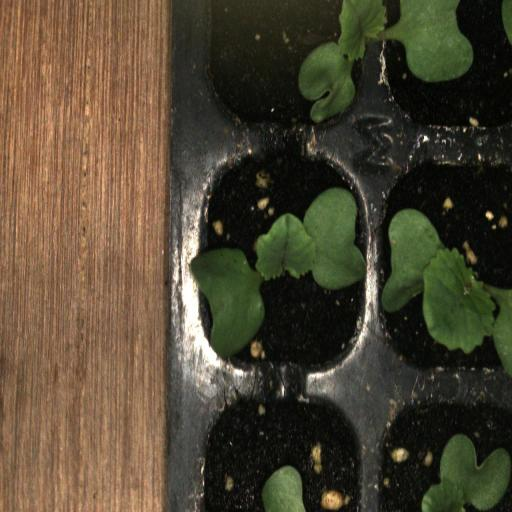askew: (195, 0, 375, 144)
seedling: (189, 155, 373, 389), (375, 155, 512, 393)
